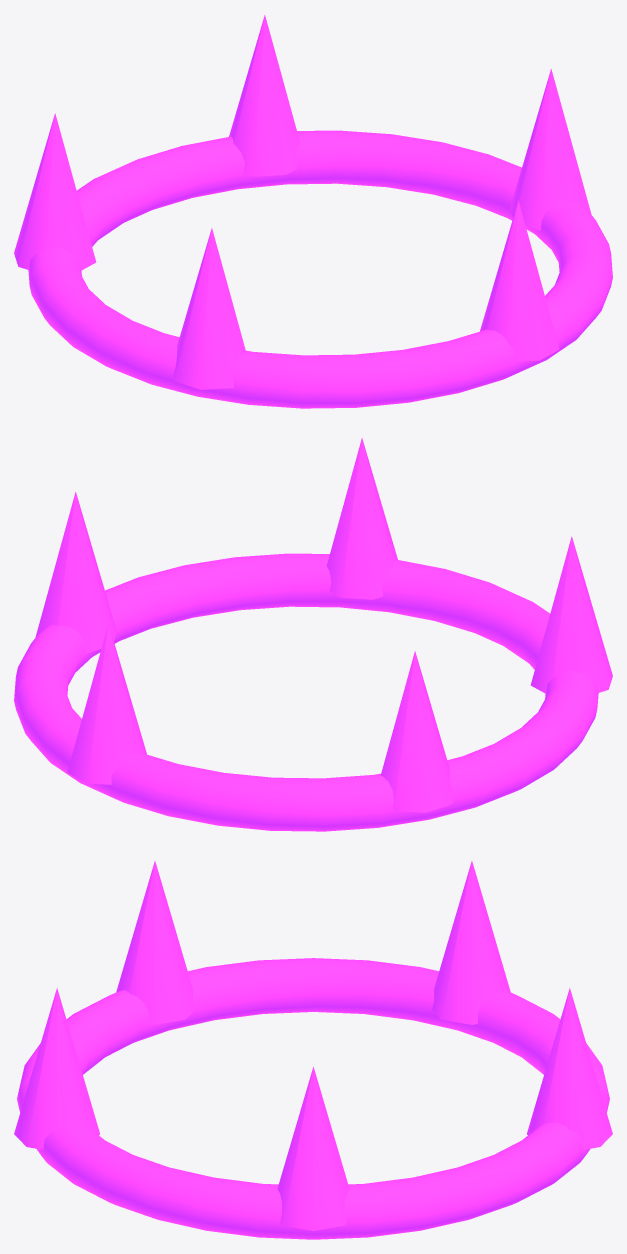
Rendered from head_gold_shades.glb.
The picture shows the model from 3 angles, top to bottom: view 1: azimuth 30°, elevation 25°; view 2: azimuth 150°, elevation 25°; view 3: azimuth 270°, elevation 25°; orthographic projection.
Bounding box in the file's own units: 0.5085 × 0.1575 × 0.5.
